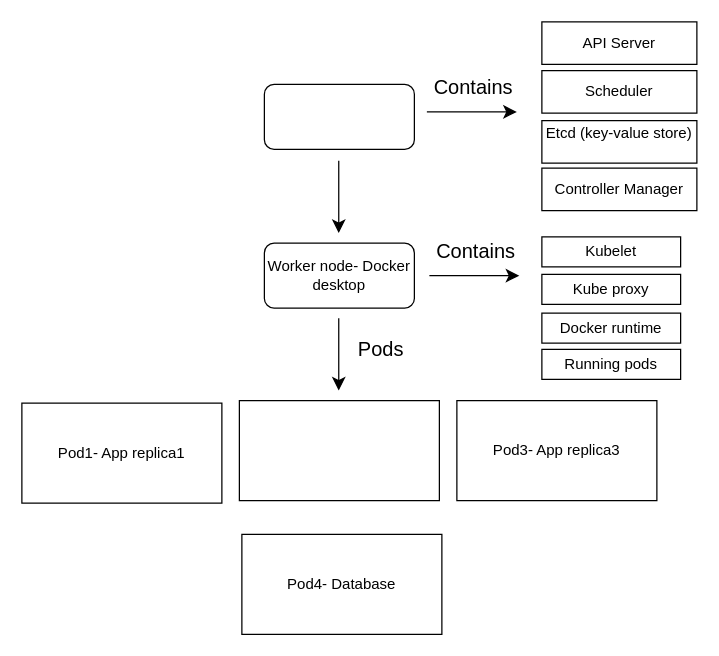
This 719x656 diagram has some shape labels left out. The centre of each missing label's shape, as x and y in pixels:
"Control Pane- Docker (Single node architecture)" goes at pixel 338 116.
"Pod2- App replica2" goes at pixel 338 450.
